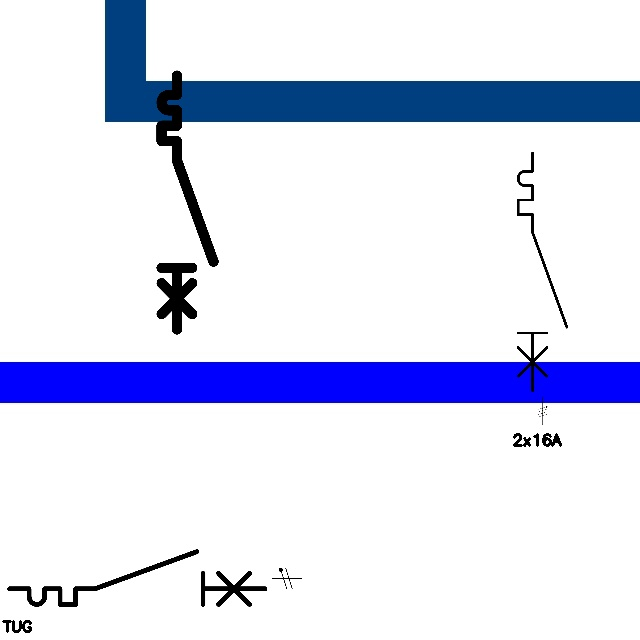interruptor_termomagnetico: (3, 545, 272, 611), (155, 69, 220, 336), (512, 147, 573, 397)
